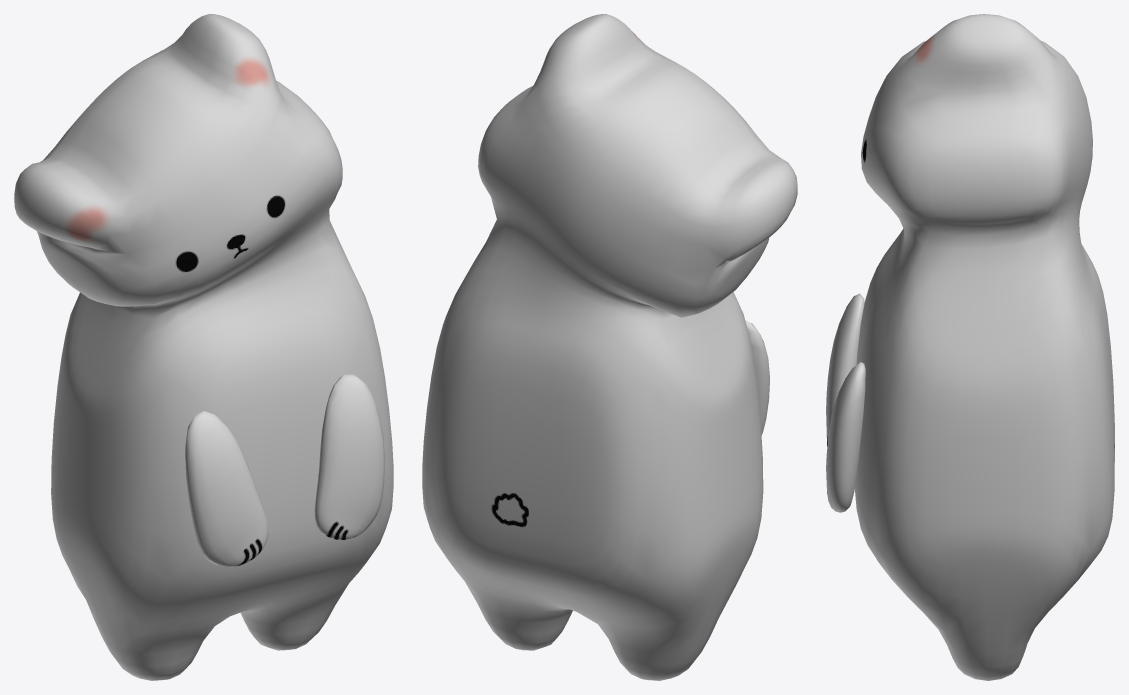
The model's file is polar_bear_full.glb.
3 views of the same model, side by side, from view 1: azimuth 30°, elevation 25°; view 2: azimuth 150°, elevation 25°; view 3: azimuth 270°, elevation 25° (orthographic).
Visible parts, largest first — view 1: pCube4; view 2: pCube4; view 3: pCube4.
Boxes of the visible parts, <box> form: pCube4: <box>14,14,393,680</box>; pCube4: <box>422,14,797,680</box>; pCube4: <box>826,14,1114,680</box>.
Size of the model in its own units: 2 by 3.67 by 1.53.
1 material, 1 textured.
